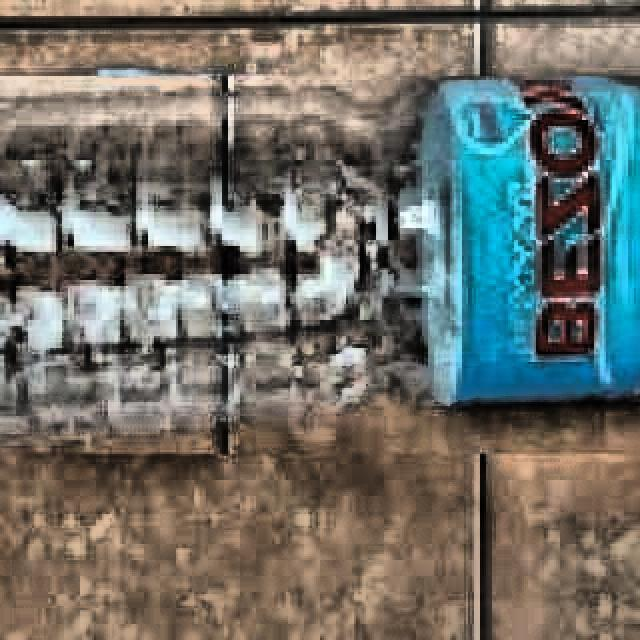plastic: (0, 76, 640, 454)
